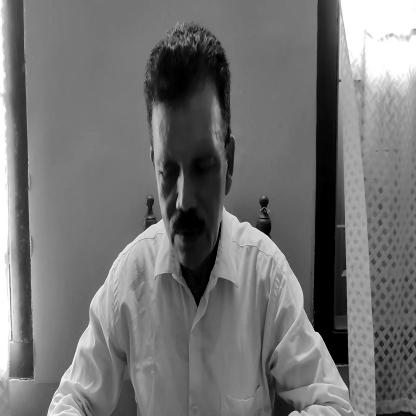Normal: (141, 32, 238, 269)
